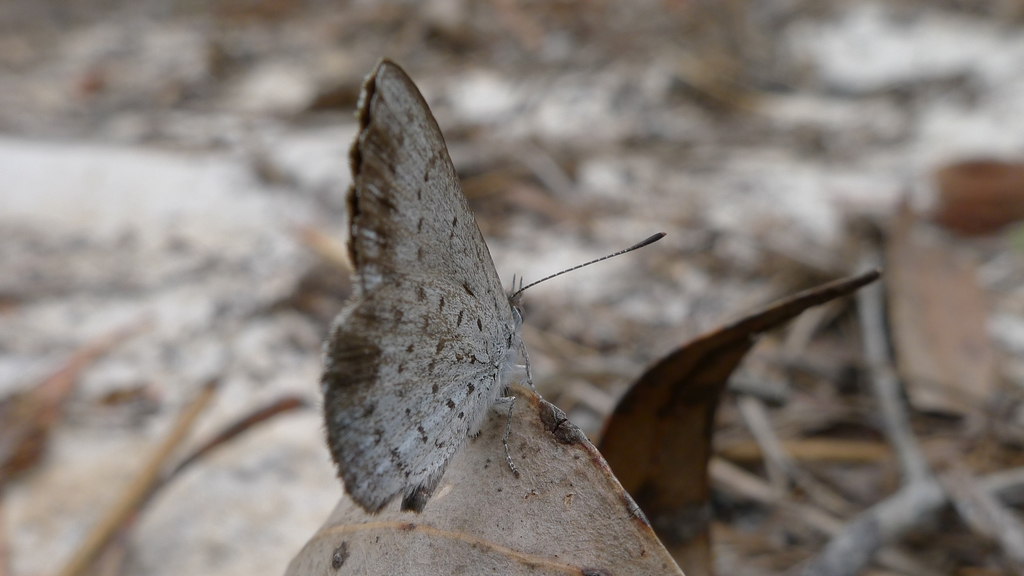Butterfly: (293, 58, 563, 515)
